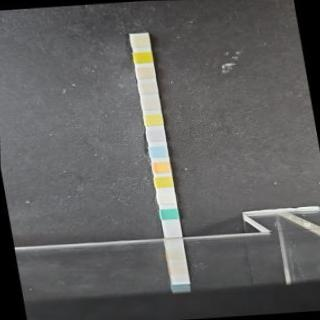mark: (138, 80, 157, 94), (132, 50, 152, 63), (146, 128, 164, 142), (132, 34, 150, 48), (136, 66, 156, 78), (155, 176, 173, 188), (152, 160, 170, 172), (150, 144, 168, 156), (144, 112, 162, 124), (142, 98, 160, 110), (158, 192, 175, 204), (161, 209, 178, 220)
